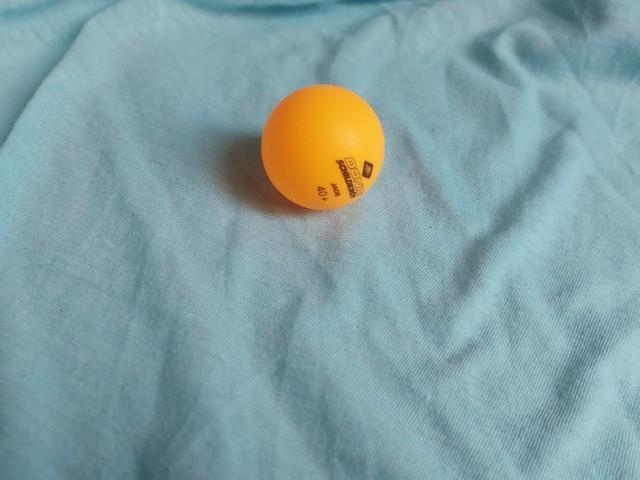oball: (252, 78, 396, 219)
